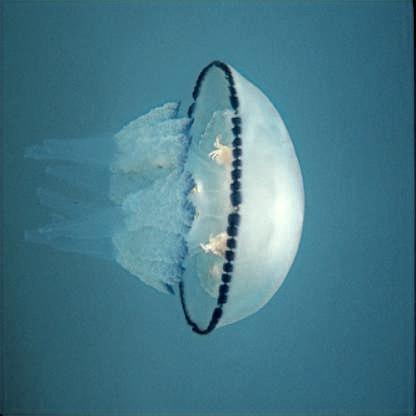Handstand: (19, 60, 303, 334)
